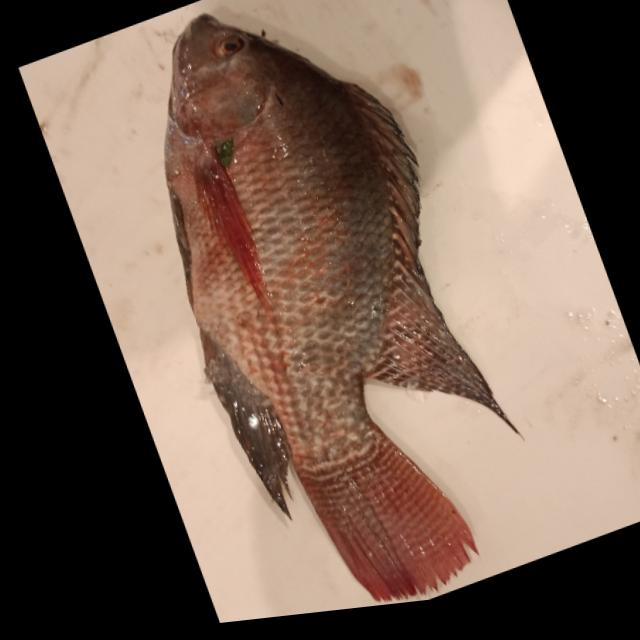Tilapia: (84, 0, 561, 631)
